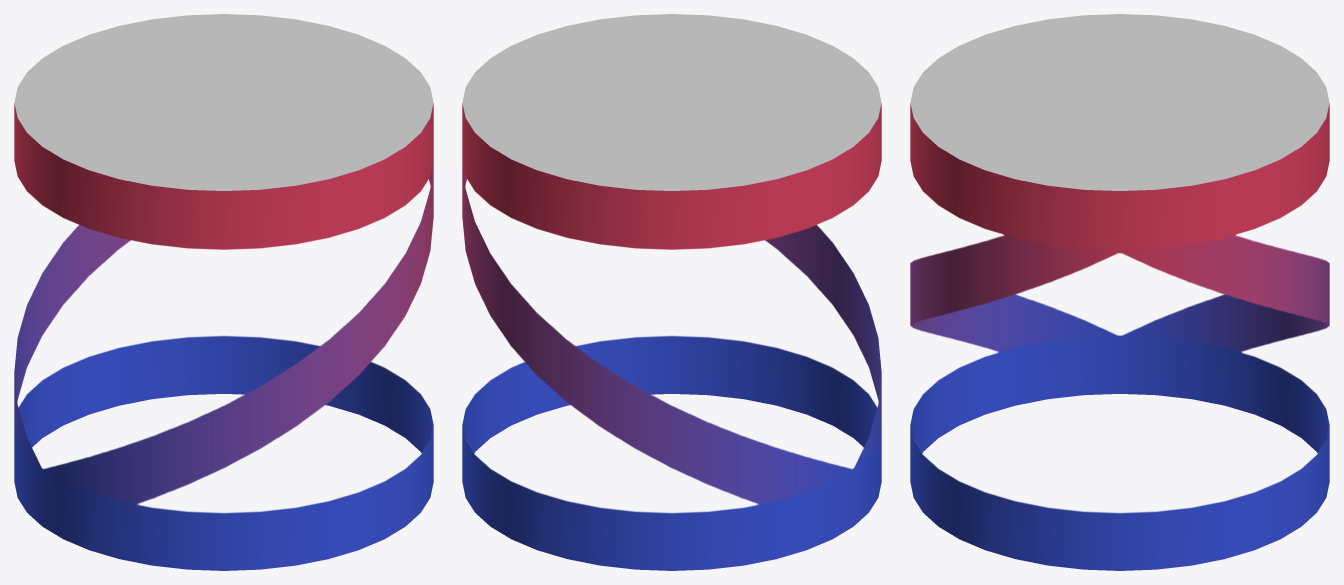
File: zmodel.glb
3 renders of one model, left to right at view 1: azimuth 30°, elevation 25°; view 2: azimuth 150°, elevation 25°; view 3: azimuth 270°, elevation 25°, orthographic.
Visible parts, largest first — view 1: Cylinder; view 2: Cylinder; view 3: Cylinder.
Part boxes in pixels (x1=…): Cylinder: x1=14, y1=14, x2=433, y2=570; Cylinder: x1=462, y1=14, x2=881, y2=570; Cylinder: x1=910, y1=14, x2=1329, y2=570.
Size of the model in its own units: 700 by 700 by 700.
Materials: 3 (3 with a texture image).
